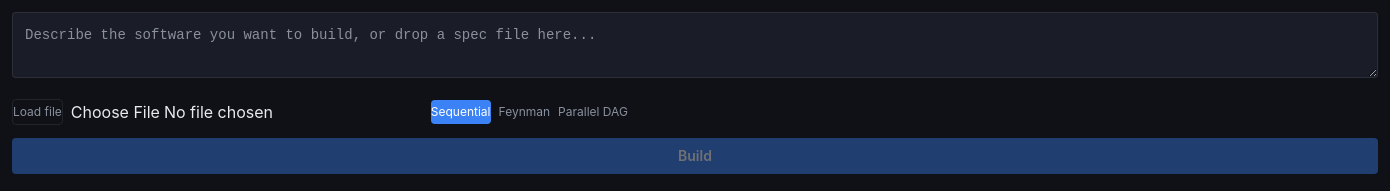
Test: SpecInput Full (Phase 3) › Build enabled when has text and not busy
Replace the text in the field with "Build a tool" at {"x": 695, "y": 45}, box [12, 12, 1378, 78]
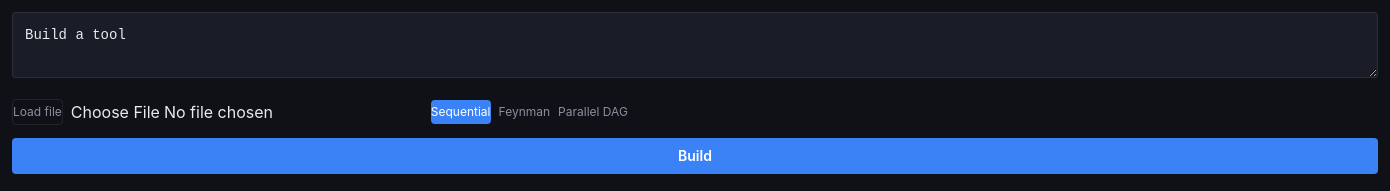
Expected: the button "Build" is enabled, [12, 138, 1378, 174]
